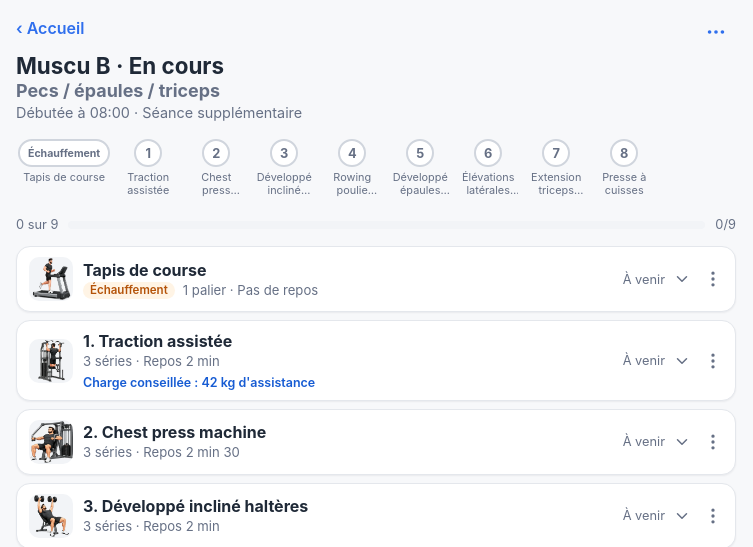
pari V6 : la traction légère de Muscu B › hors palier : ni le cadre de la Muscu A, ni conseil de charge en parallèle du bandeau V6
The image size is (753, 547).
Click the button "1 Traction assistée" at (148, 168), box [116, 135, 180, 202]
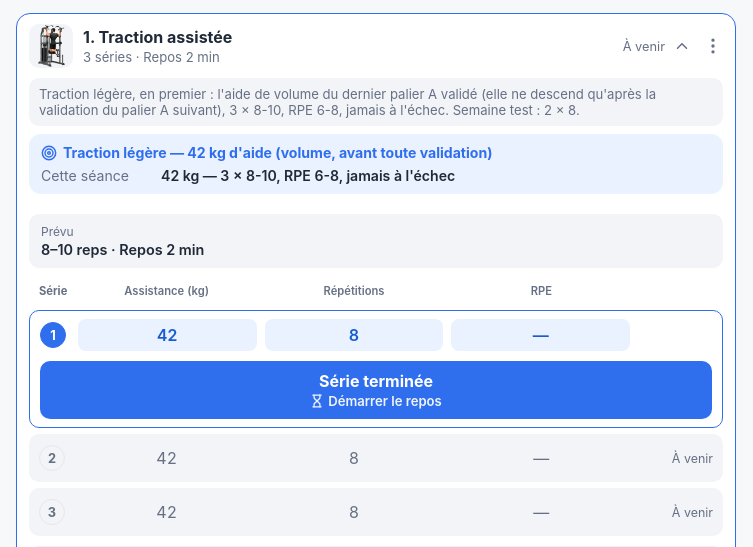
Check: the text "conseillé" is gone
